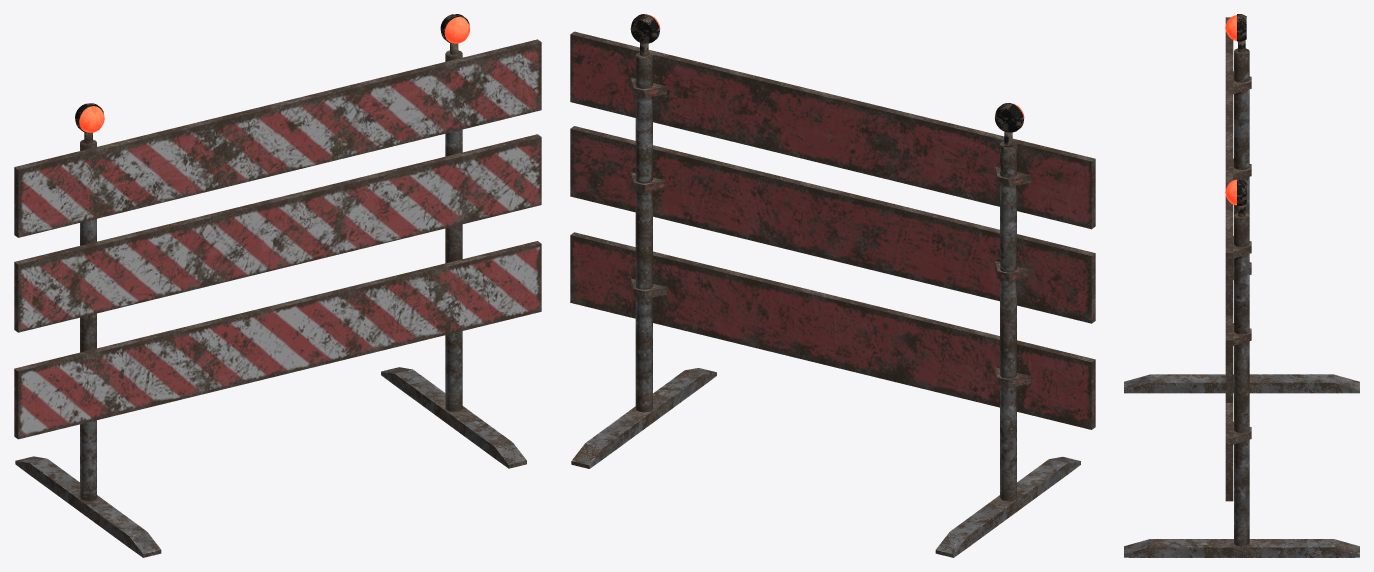
Rendered from barrier.glb.
3 views of the same model, side by side, from view 1: azimuth 30°, elevation 25°; view 2: azimuth 150°, elevation 25°; view 3: azimuth 270°, elevation 25° (orthographic). The views are drawn at different scales.
Visible parts, largest first — view 1: pasted__pasted__pCube3, group4, pSphere2; view 2: pasted__pasted__pCube3, group4, pSphere2; view 3: group4, pasted__pasted__pCube3, pSphere2.
Boxes of the visible parts, x1,y1,x2,y2 form: pasted__pasted__pCube3: [14, 39, 541, 439]; group4: [15, 51, 526, 557]; pSphere2: [75, 14, 470, 145]; pasted__pasted__pCube3: [570, 31, 1095, 429]; group4: [571, 52, 1080, 557]; pSphere2: [630, 14, 1024, 147]; group4: [1124, 48, 1359, 557]; pasted__pasted__pCube3: [1225, 17, 1251, 501]; pSphere2: [1225, 14, 1248, 218].
Size of the model in its own units: 2.86 by 2.12 by 1.21.
4 materials, 4 textured.
